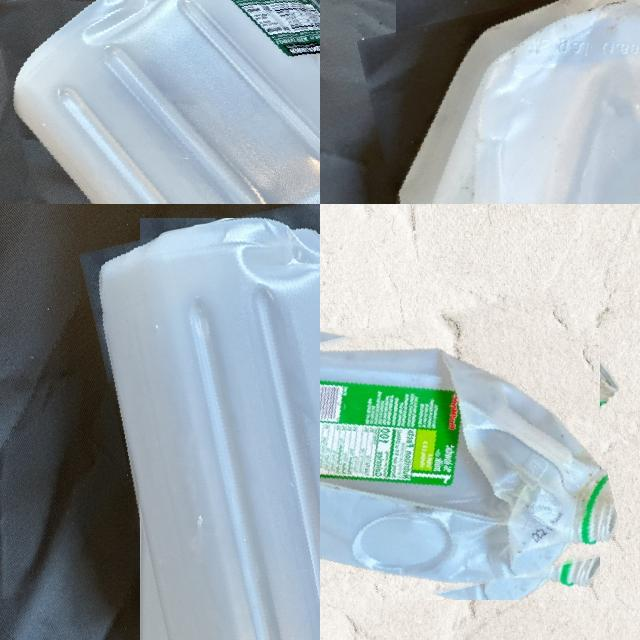milk-jug: (320, 306, 612, 620), (109, 207, 320, 640), (11, 0, 320, 204), (376, 0, 640, 204)
